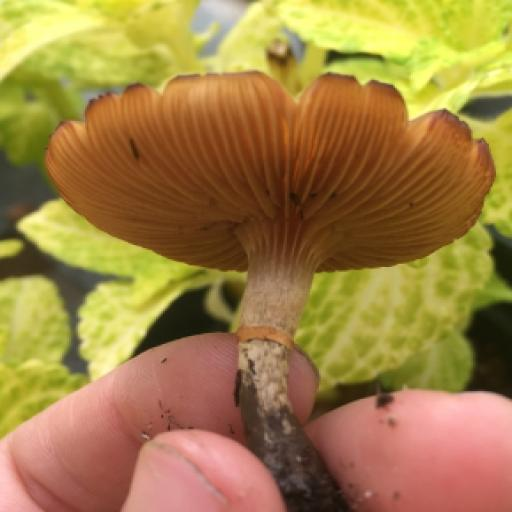mushroom: (33, 62, 497, 336)
